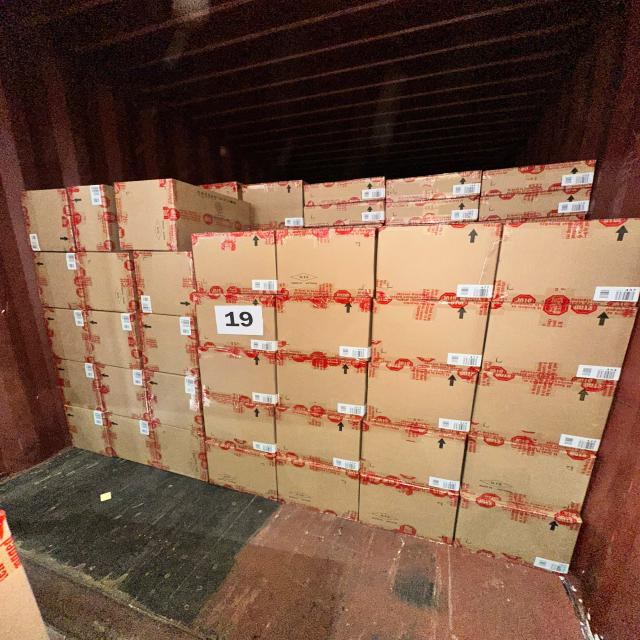Carton: (468, 370, 617, 456), (500, 219, 640, 307), (457, 432, 599, 518), (489, 296, 636, 372), (453, 494, 583, 578), (377, 222, 497, 299), (366, 357, 476, 429), (357, 472, 459, 548), (359, 419, 461, 494), (372, 301, 487, 366), (275, 226, 376, 299), (274, 294, 373, 363), (189, 229, 280, 295), (274, 405, 361, 473), (276, 348, 367, 413), (195, 291, 278, 355), (275, 458, 360, 520), (113, 177, 180, 253), (132, 250, 197, 317), (198, 341, 277, 396), (135, 312, 200, 378), (76, 250, 140, 314), (202, 395, 276, 450), (204, 444, 275, 501), (142, 369, 204, 433), (18, 187, 78, 252), (150, 422, 208, 484), (30, 250, 88, 311), (94, 362, 152, 423), (85, 310, 143, 370), (64, 184, 113, 253), (41, 306, 95, 364), (51, 357, 106, 412), (105, 412, 158, 469), (61, 403, 114, 458)
